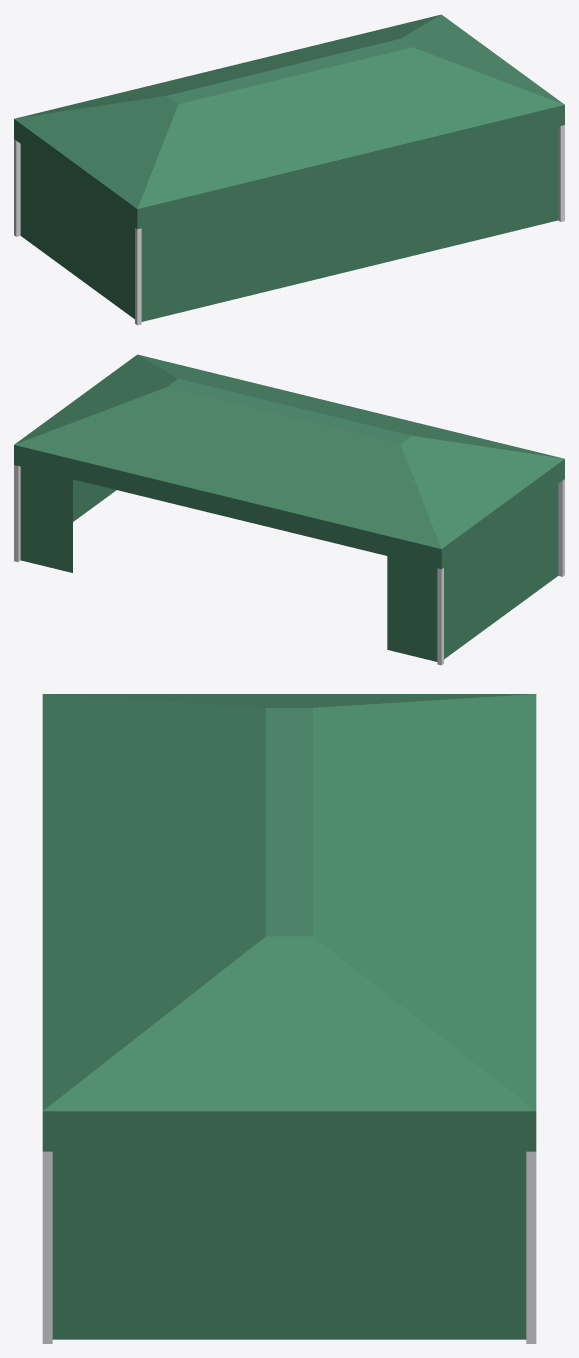
The model's file is tentClosedLong.obj.
3 views of the same model, one above another, from view 1: azimuth 30°, elevation 25°; view 2: azimuth 150°, elevation 25°; view 3: azimuth 270°, elevation 25° (orthographic). The views are drawn at different scales.
Parts seen in each view (by area): view 1: tentClosedLong; view 2: tentClosedLong; view 3: tentClosedLong.
Part boxes in pixels (x1=…): tentClosedLong: x1=14, y1=14, x2=564, y2=325; tentClosedLong: x1=14, y1=354, x2=564, y2=665; tentClosedLong: x1=42, y1=694, x2=536, y2=1343.
Size of the model in its own units: 2 by 0.7 by 1.
